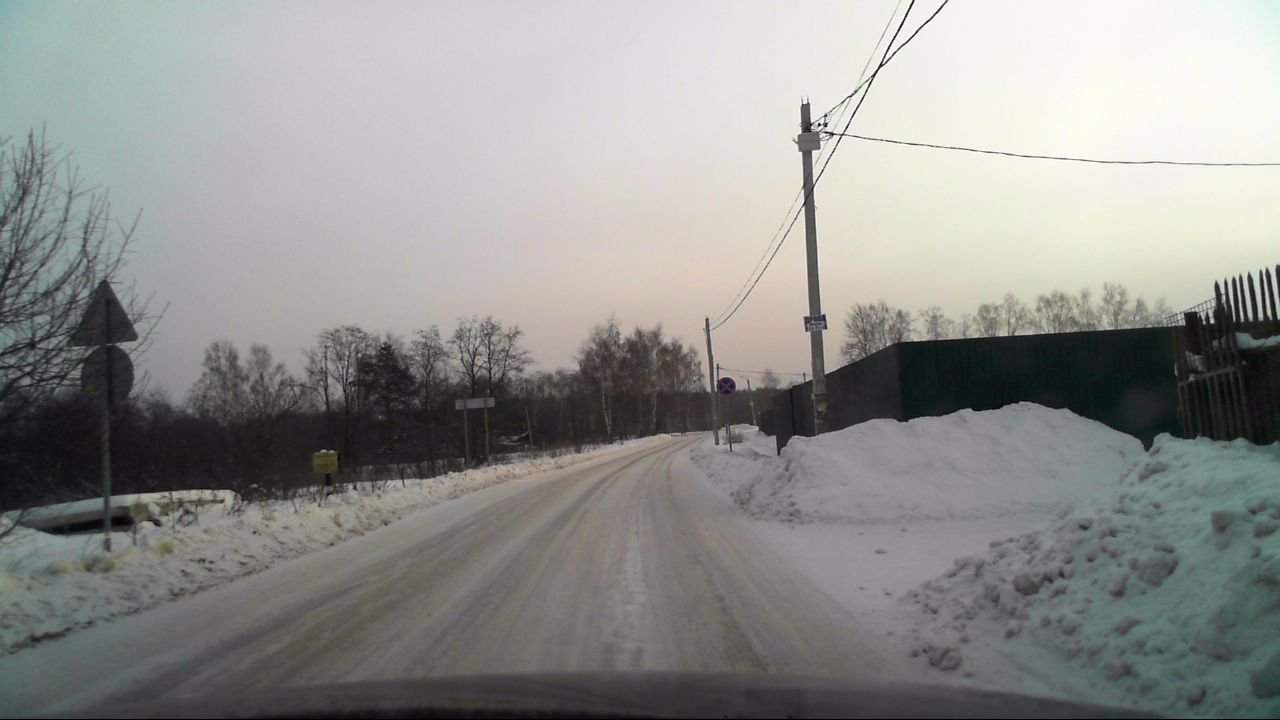No Parking: (716, 376, 735, 395)
